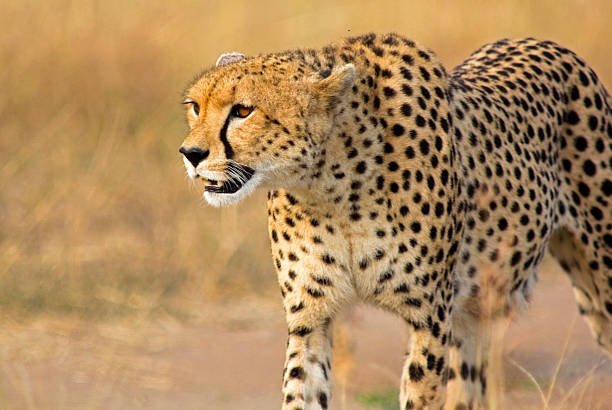cheetah: (156, 49, 370, 221)
